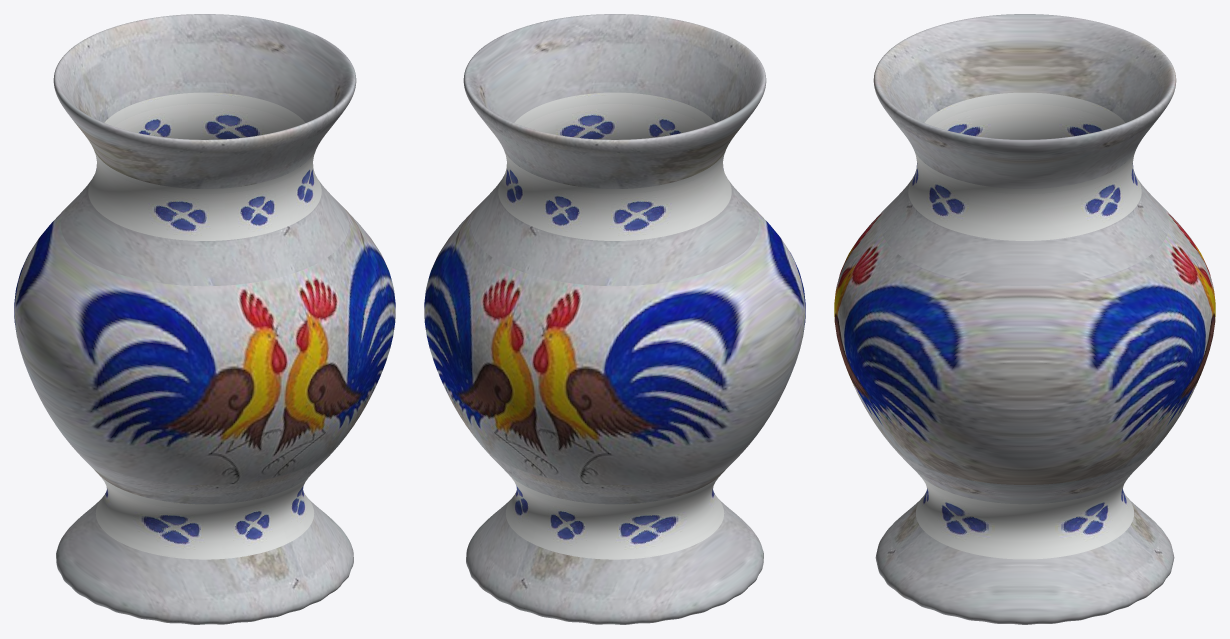
The model's file is obj_vaso_texturizzato_bb0d4e.glb.
The picture shows the model from 3 angles, left to right: view 1: azimuth 30°, elevation 25°; view 2: azimuth 150°, elevation 25°; view 3: azimuth 270°, elevation 25°; orthographic projection.
Parts seen in each view (by area): view 1: obj_vaso_texturizzato_bb0d4e; view 2: obj_vaso_texturizzato_bb0d4e; view 3: obj_vaso_texturizzato_bb0d4e.
Part boxes in pixels (x1,y1,x2,y2): obj_vaso_texturizzato_bb0d4e: (14, 14, 395, 624); obj_vaso_texturizzato_bb0d4e: (424, 14, 805, 624); obj_vaso_texturizzato_bb0d4e: (834, 14, 1215, 624).
Size of the model in its own units: 0.244 by 0.35 by 0.244.
Materials: 3 (3 with a texture image).
